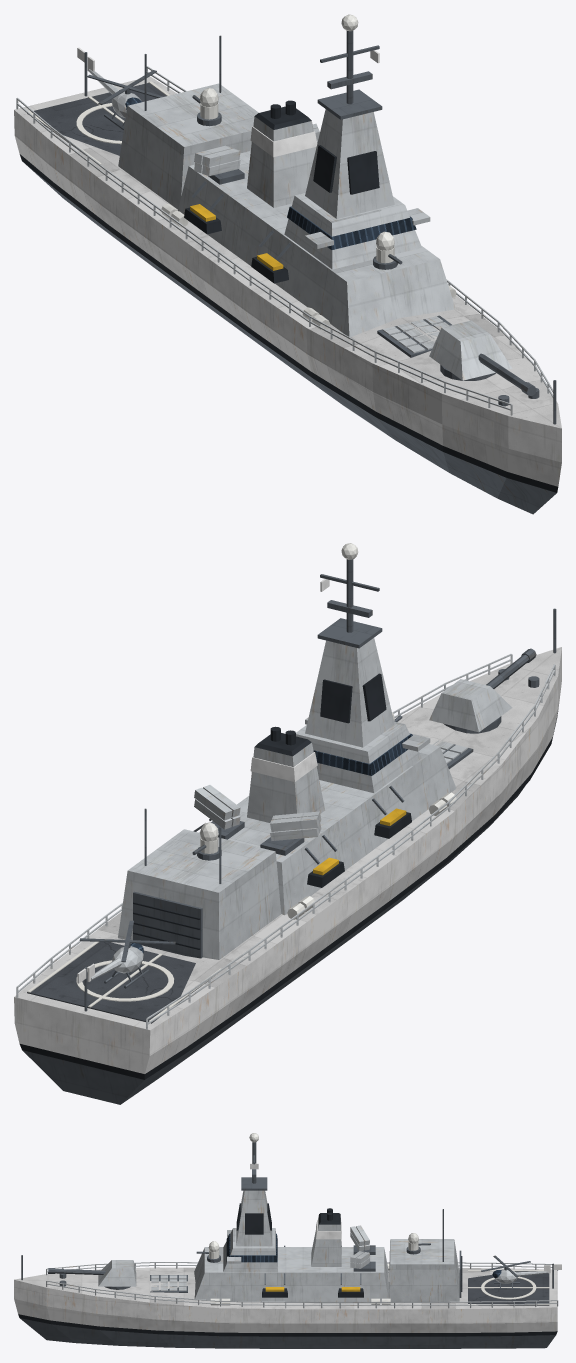
Rendered from warship.gltf.
3 renders of one model, top to bottom at view 1: azimuth 30°, elevation 25°; view 2: azimuth 150°, elevation 25°; view 3: azimuth 270°, elevation 25°, orthographic. The views are drawn at different scales.
Parts seen in each view (by area): view 1: Warship; view 2: Warship; view 3: Warship.
Boxes of the visible parts, box(x1,y1,x2,y2) form: Warship: box(14, 14, 561, 514); Warship: box(14, 543, 561, 1104); Warship: box(14, 1133, 561, 1348).
Size of the model in its own units: 0.18 by 0.42 by 1.01.
Materials: 11 (10 with a texture image).
